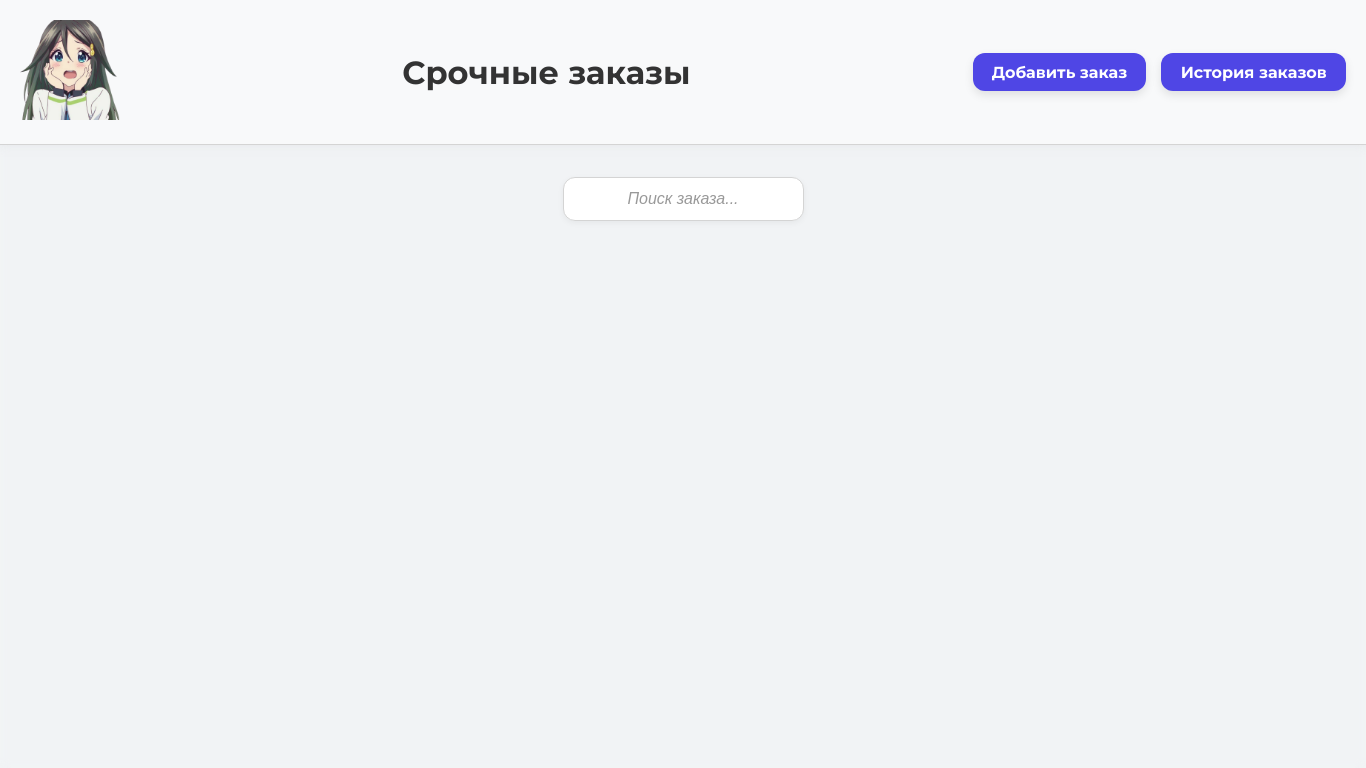
Test case: App integration › user creates order
Note: открыть модалку
Click the button "Добавить заказ" at (1060, 72), box [973,53,1146,91]
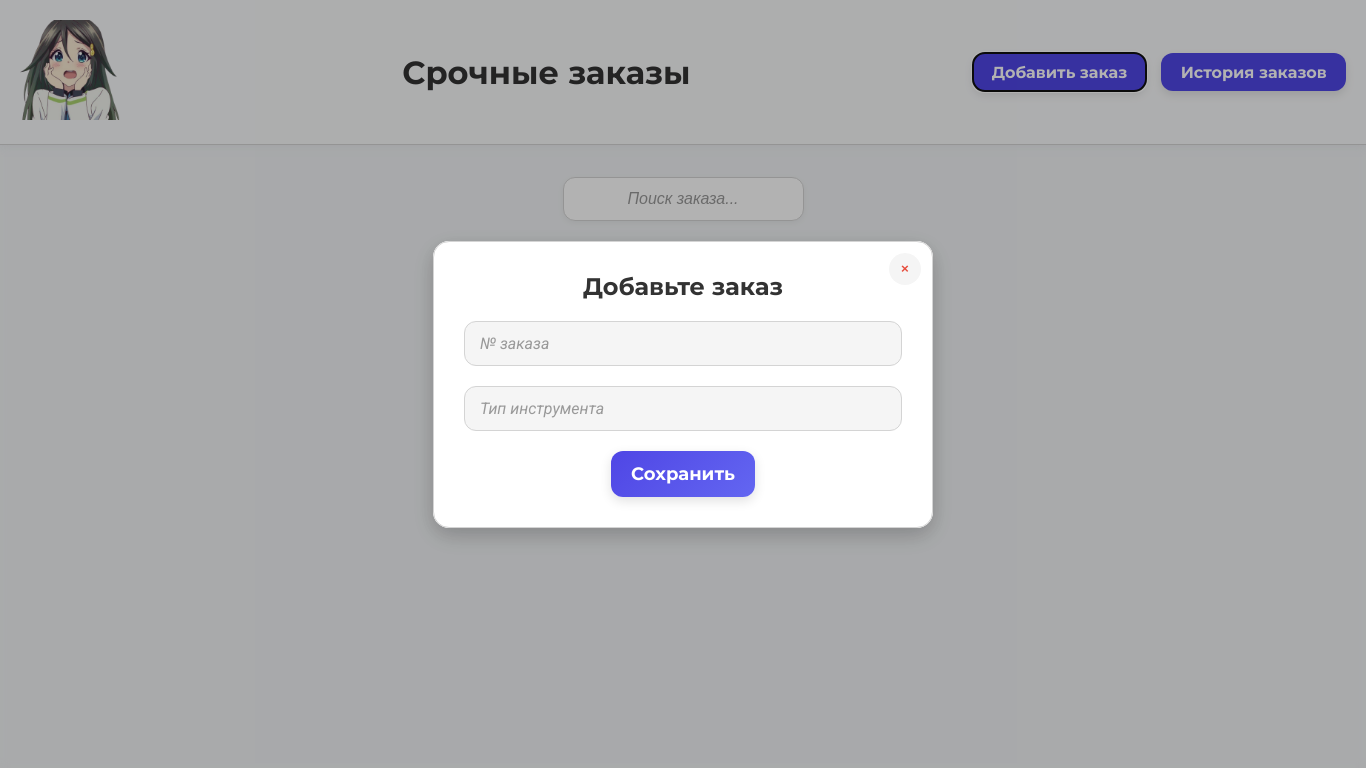
Note: заполнить
Type "1" into the field labelled "№ заказа" at (683, 343), box [464,320,902,366]
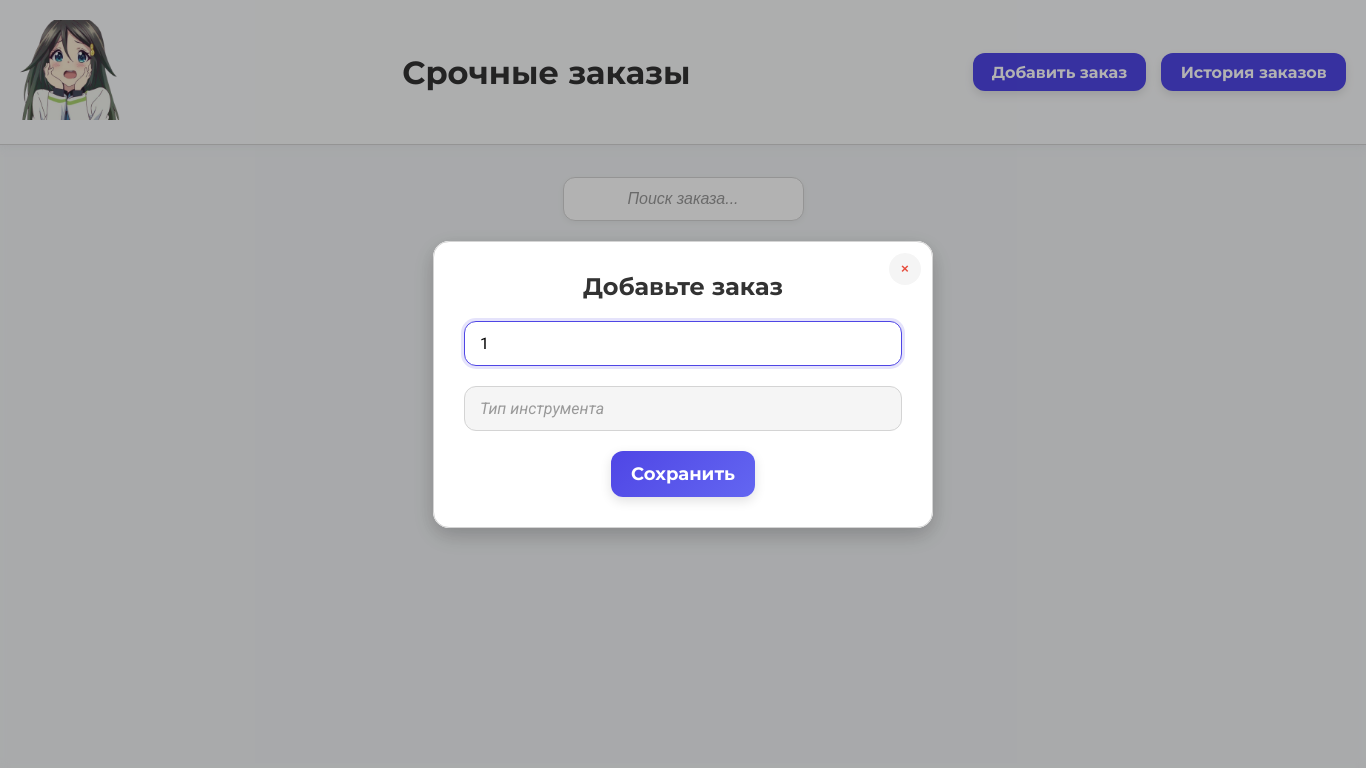
Type "test" into the field labelled "Тип инструмента" at (683, 408), box [464,386,902,430]
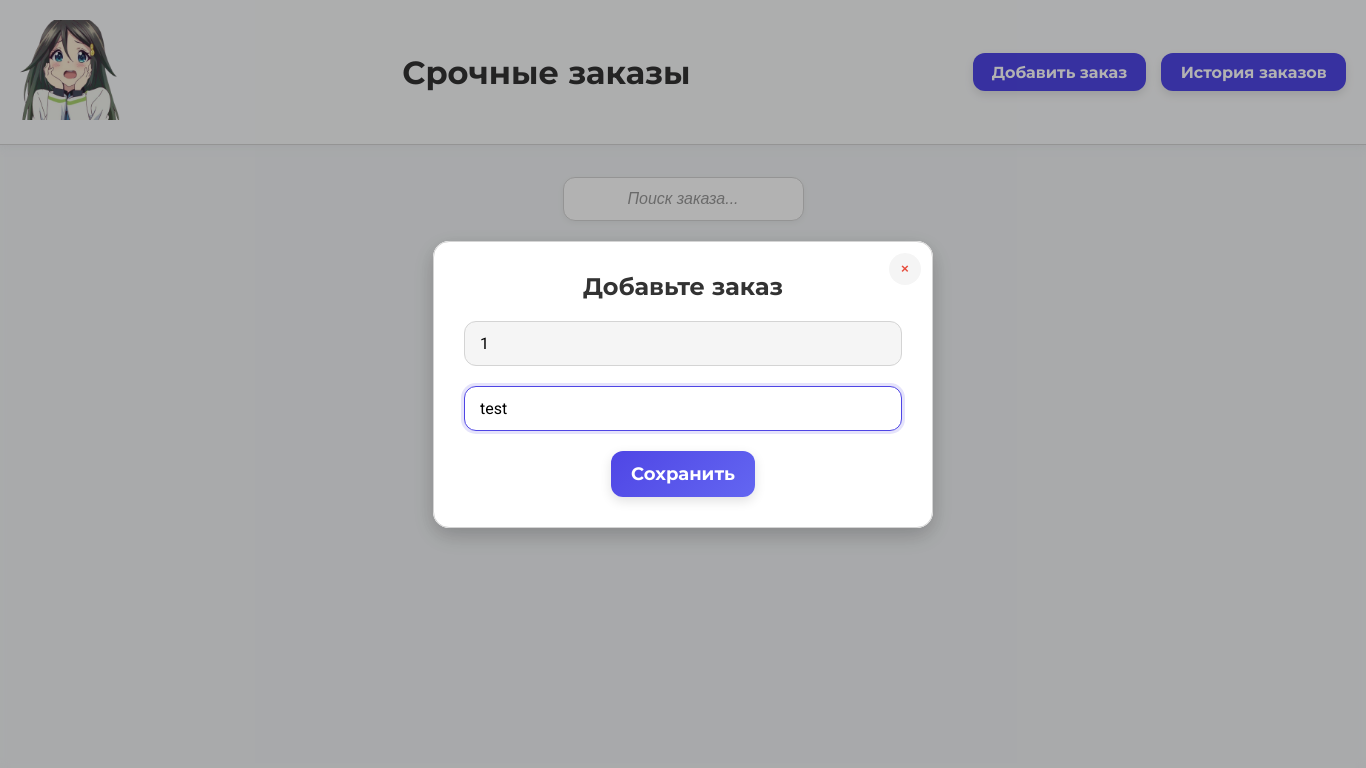
Note: сохранить
Click the button "Сохранить" at (683, 474), box [611,450,755,496]
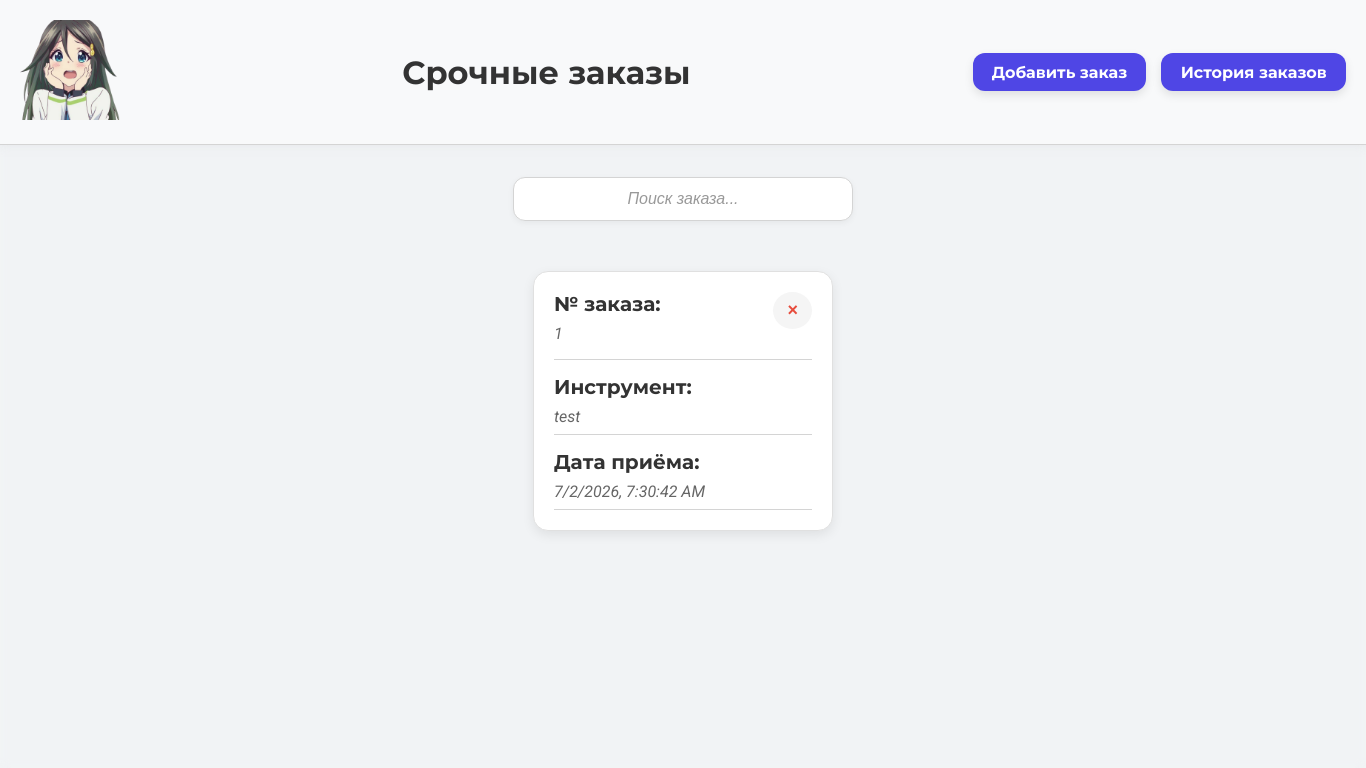
Expected: the text "1" is shown, [554,324,563,343]
Expected: the text "test" is shown, [554,407,580,426]
